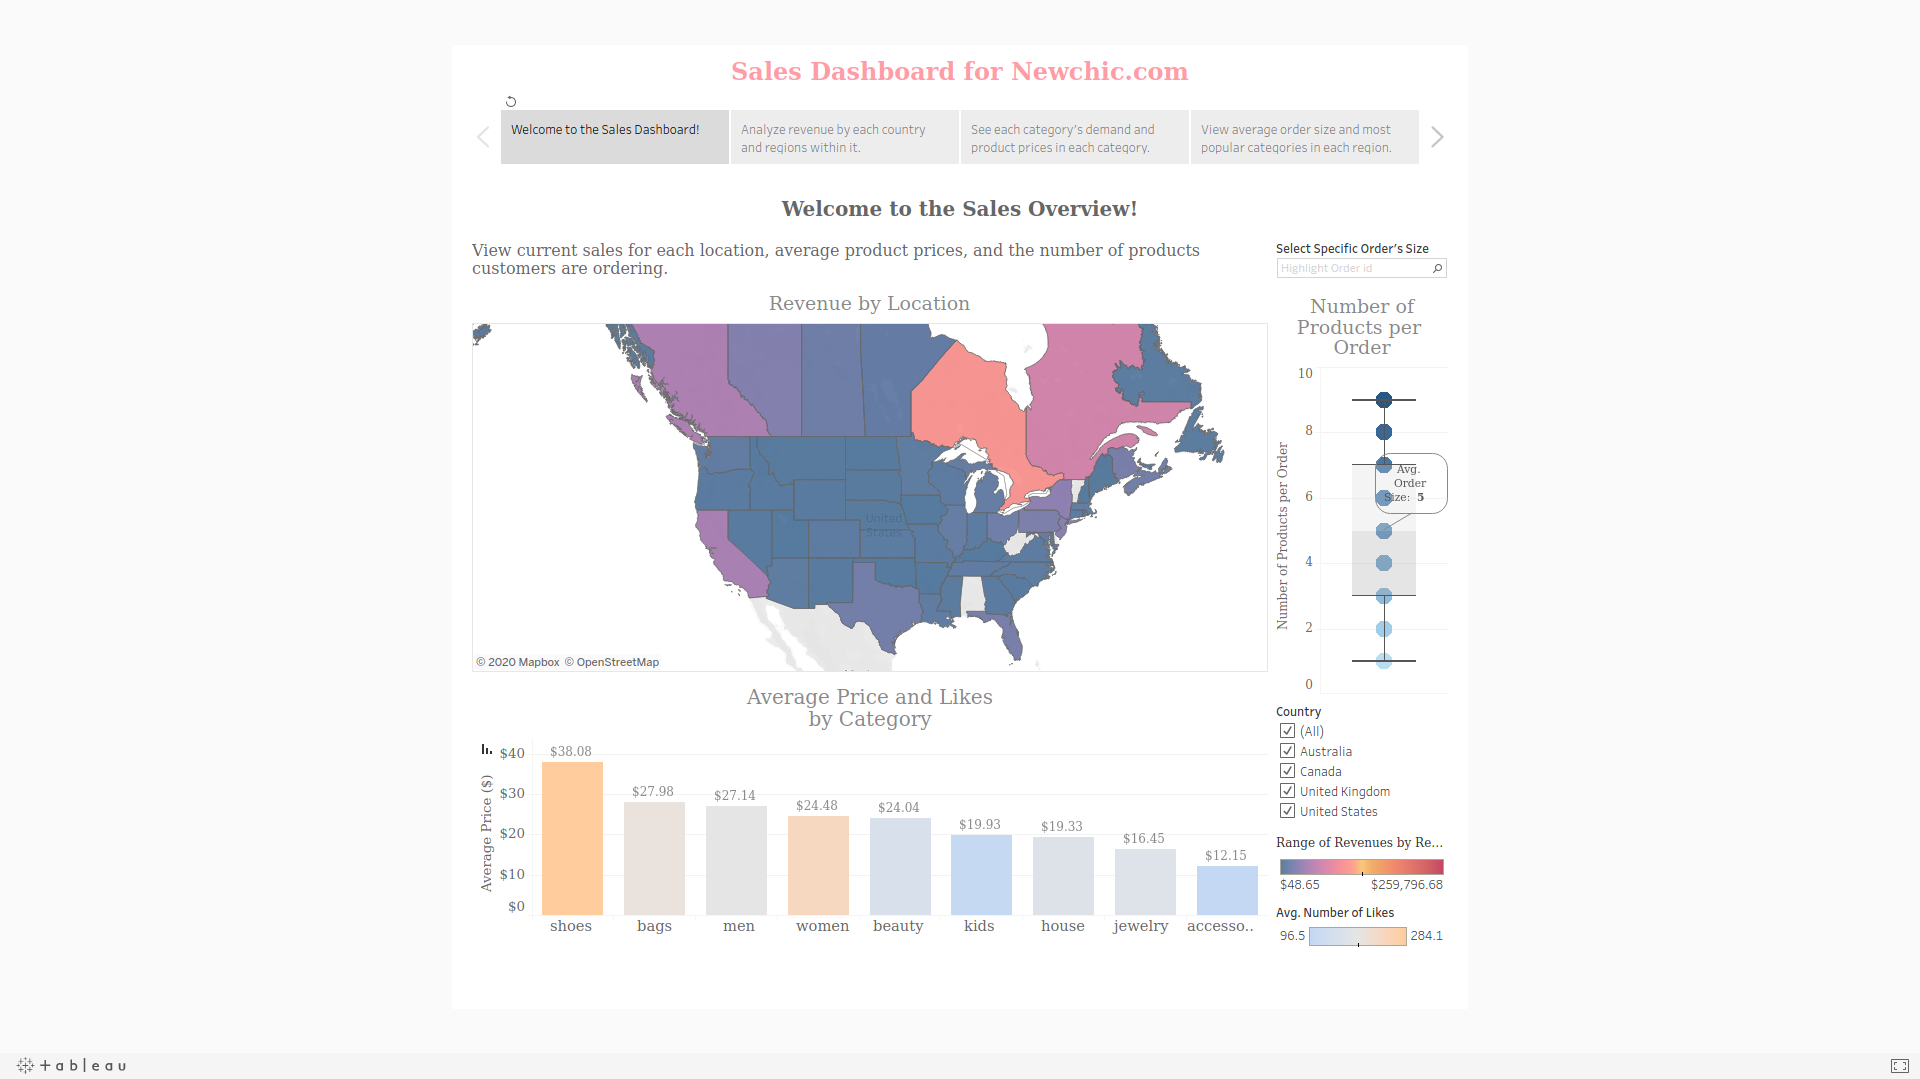

What the dashboard file says about the page in this screenshot:
{"tool":"tableau","page":{"name":"SummaryPage","canvas":[1000,800],"ordinal":3},"visuals":[{"type":"worksheet","box":[0,0,1000,800]},{"type":"worksheet","box":[8,8,984,52]},{"type":"worksheet","param":"horz","box":[8,60,984,732]},{"type":"worksheet","param":"horz","box":[8,60,804,732]},{"type":"worksheet","box":[8,60,804,732]},{"type":"worksheet","box":[8,60,804,49.5]},{"type":"worksheet","param":"vert","box":[812,60,180,732]},{"type":"worksheet","title":"AvgOrderSize","mark":"Circle","rows":["Order_items_2116923E60CF4AFAA61501F0E024909A"],"param":"[federated.0zuhozr0m2i4s10znb5dq1txs446].[none:Order_id:ok]","box":[812,60,180,52]},{"type":"worksheet","title":"RevMap","mark":"Multipolygon","box":[8,109.5,804,391.2]},{"type":"worksheet","title":"AvgOrderSize","mark":"Circle","rows":["Order_items_2116923E60CF4AFAA61501F0E024909A"],"box":[812,112,180,423]},{"type":"worksheet","title":"ProductPriceByCateg","mark":"Automatic","rows":["Current_price"],"cols":["Category"],"box":[8,500.7,804,291.3]},{"type":"worksheet","title":"RevMap","mark":"Multipolygon","param":"[federated.02eptm71ptnutn1ab5xy51wvrm33].[none:Country:nk]","box":[812,535,180,127]},{"type":"worksheet","title":"RevMap","mark":"Multipolygon","param":"[federated.02eptm71ptnutn1ab5xy51wvrm33].[sum:Total_sales:qk]","box":[812,662,180,65]},{"type":"worksheet","title":"ProductPriceByCateg","mark":"Automatic","rows":["Current_price"],"cols":["Category"],"param":"[federated.0zuhozr0m2i4s10znb5dq1txs446].[avg:Likes_count:qk]","box":[812,727,180,65]}]}

Visuals, with their boxes on the page's 1000x800 design canvas (x1, y1, x2, y2). These are canvas units, not pixel positions in the 1920x1080 screenshot, which may show the page scaled, cropped or inside an application window:
worksheet: (left=0, top=0, right=1000, bottom=800)
worksheet: (left=8, top=8, right=992, bottom=60)
worksheet: (left=8, top=60, right=992, bottom=792)
worksheet: (left=8, top=60, right=812, bottom=792)
worksheet: (left=8, top=60, right=812, bottom=792)
worksheet: (left=8, top=60, right=812, bottom=110)
worksheet: (left=812, top=60, right=992, bottom=792)
"AvgOrderSize" worksheet (Circle marks): (left=812, top=60, right=992, bottom=112)
"RevMap" worksheet (Multipolygon marks): (left=8, top=110, right=812, bottom=501)
"AvgOrderSize" worksheet (Circle marks): (left=812, top=112, right=992, bottom=535)
"ProductPriceByCateg" worksheet: (left=8, top=501, right=812, bottom=792)
"RevMap" worksheet (Multipolygon marks): (left=812, top=535, right=992, bottom=662)
"RevMap" worksheet (Multipolygon marks): (left=812, top=662, right=992, bottom=727)
"ProductPriceByCateg" worksheet: (left=812, top=727, right=992, bottom=792)
